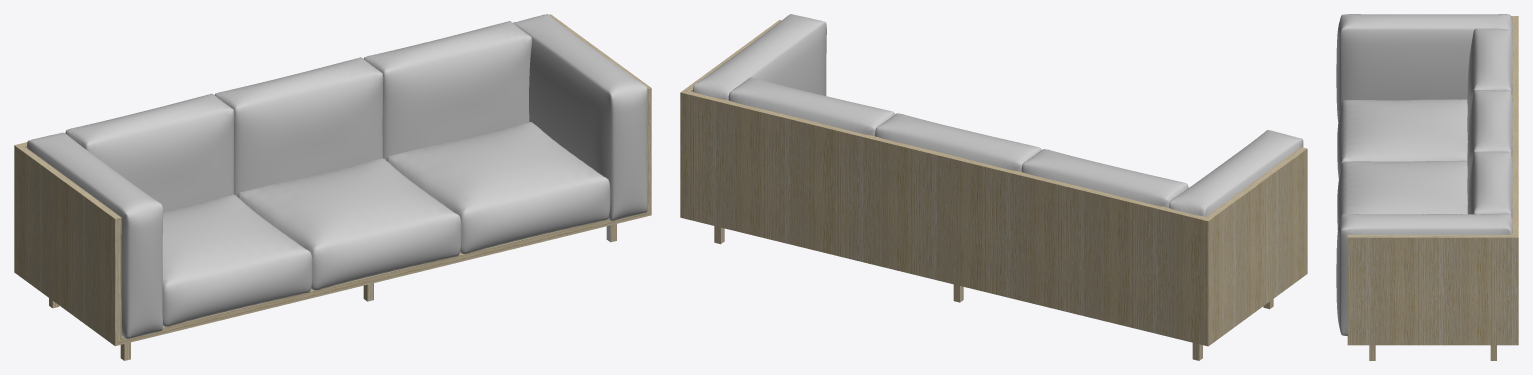
Rendered from Foyer_sofa__01.glb.
The picture shows the model from 3 angles, left to right: view 1: azimuth 30°, elevation 25°; view 2: azimuth 150°, elevation 25°; view 3: azimuth 270°, elevation 25°; orthographic projection. The views are drawn at different scales.
Visible parts, largest first — view 1: Material2 (×3); view 2: Material2 (×3); view 3: Material2 (×3).
Boxes of the visible parts, <box> form: Material2 (×3): <box>14,14,651,360</box>; Material2 (×3): <box>680,14,1307,360</box>; Material2 (×3): <box>1336,14,1518,360</box>.
Size of the model in its own units: 113 by 34.22 by 39.26.
Materials: 4 (2 with a texture image).
